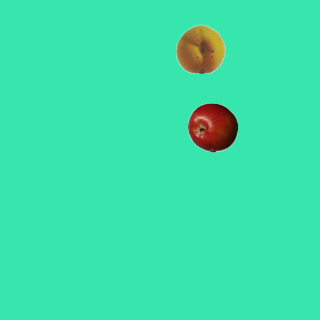Apple Braeburn: (187, 102, 237, 152)
Peach 2: (175, 23, 225, 73)
